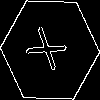X: (25, 25, 75, 78)
